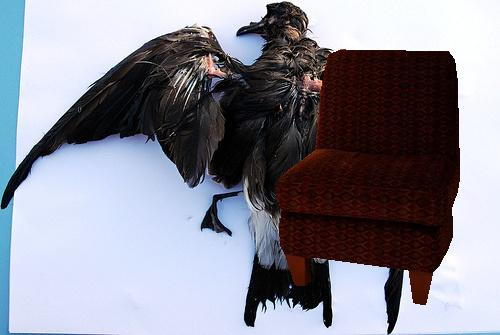tampered: (276, 50, 460, 305)
